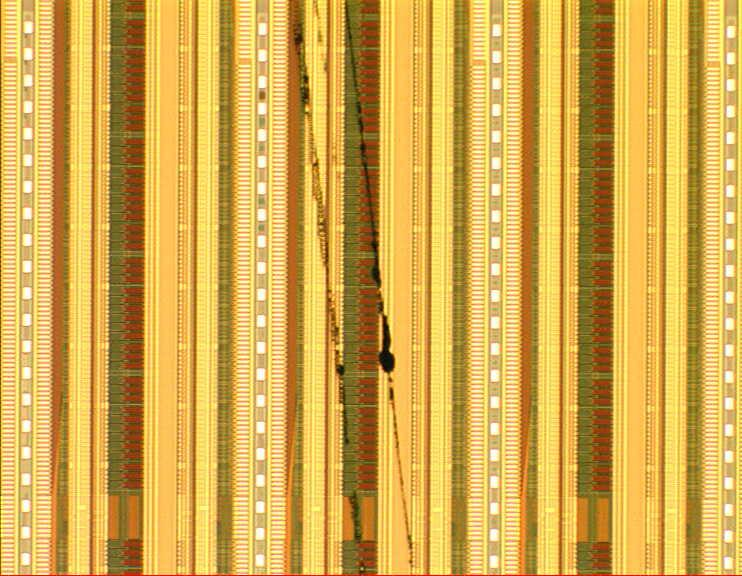SCRATCH: (285, 1, 429, 576)
